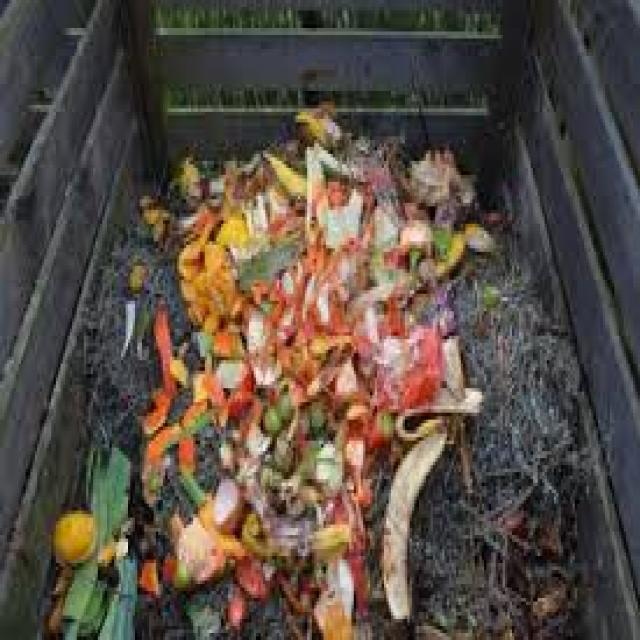food_waste: (195, 158, 400, 592)
